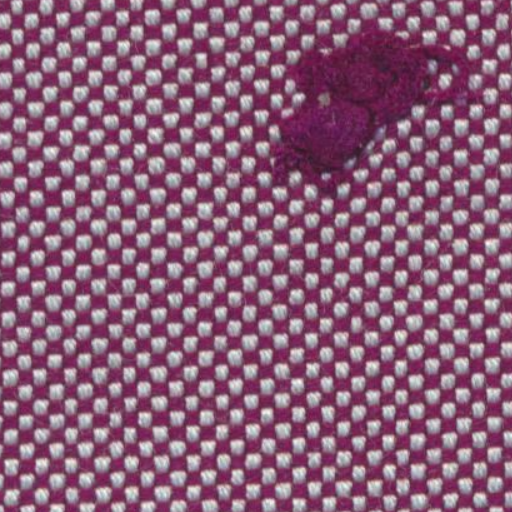MianQiu: (274, 14, 476, 198)
